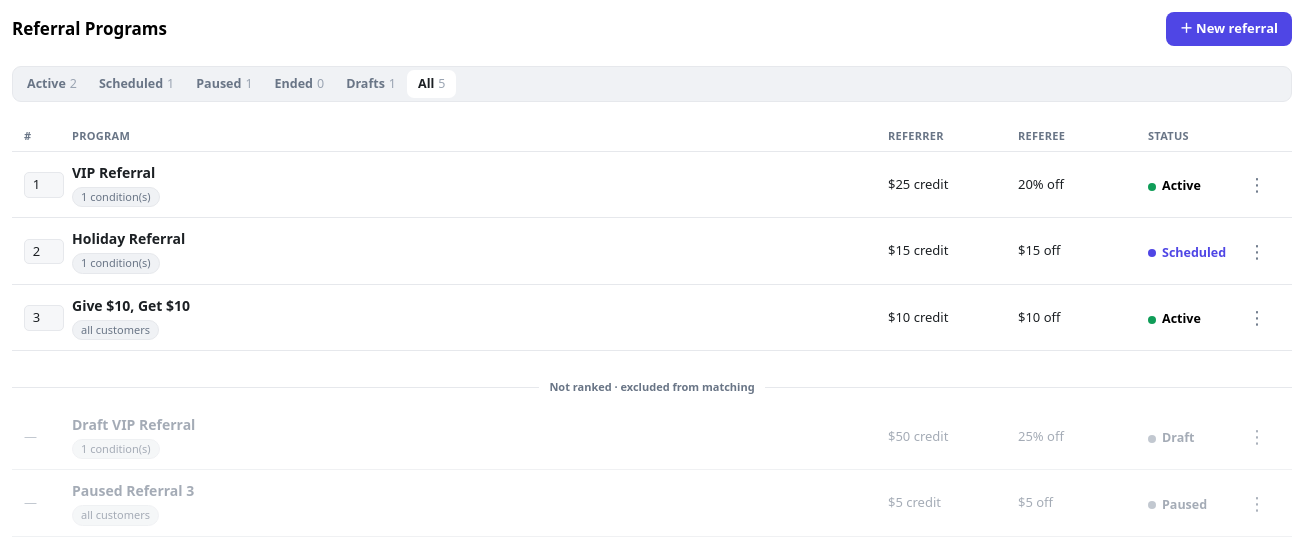
status filter narrows the view: clicking Active hides scheduled and paused programs
Check: the text "Holiday Referral" is shown, box [72, 229, 185, 248]
Check: the text "Paused Referral 3" is shown, box [72, 481, 194, 500]
Click "Active" — only active programs should remain
What coordinates should you click on to do the following:
click the button "Active2"
I would click on:
 (52, 84)
Its box is [16, 70, 88, 98].
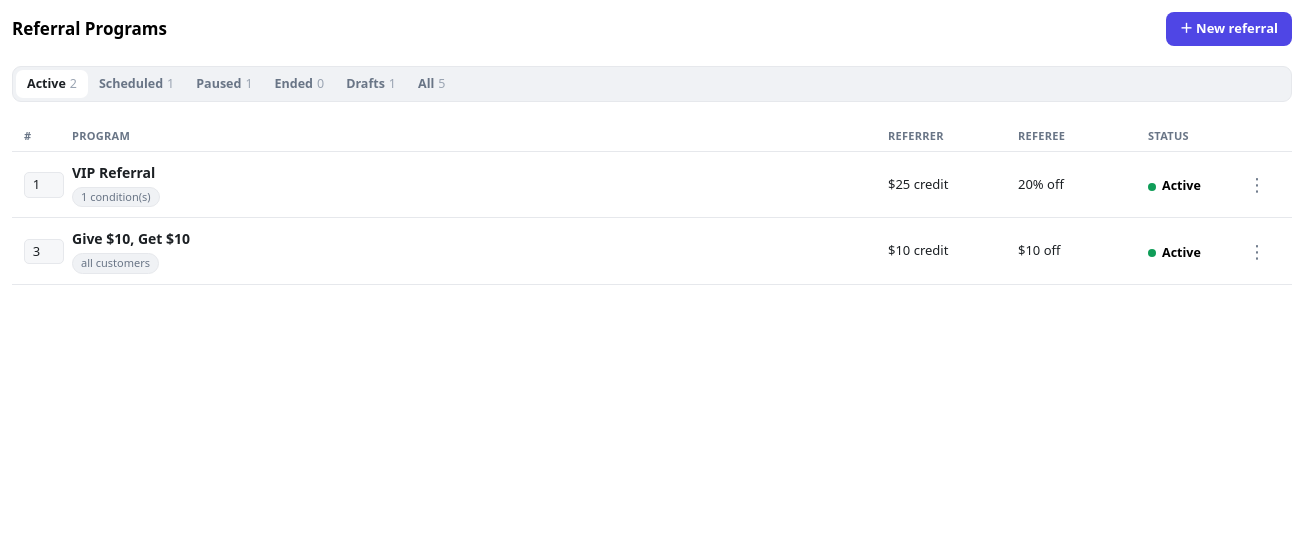
Check: the text "Holiday Referral" is gone
Check: the text "Paused Referral 3" is gone
Check: the text "Not ranked" is gone
